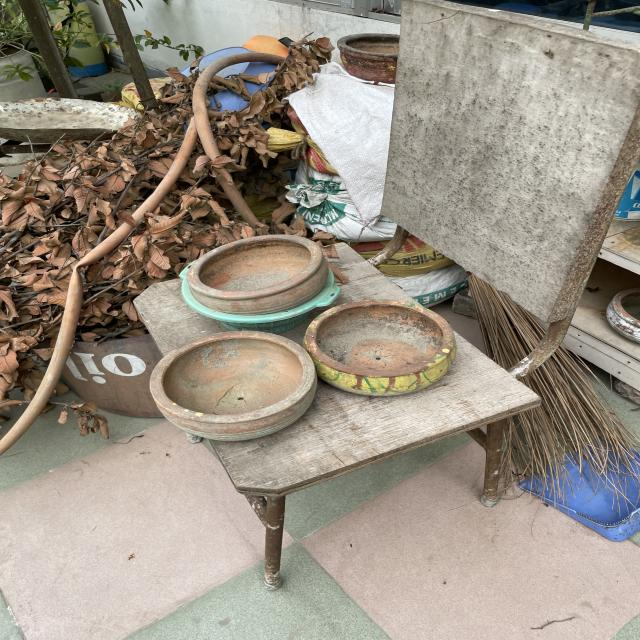Breeding Place: (149, 328, 308, 435), (306, 305, 456, 394), (187, 233, 327, 308)
